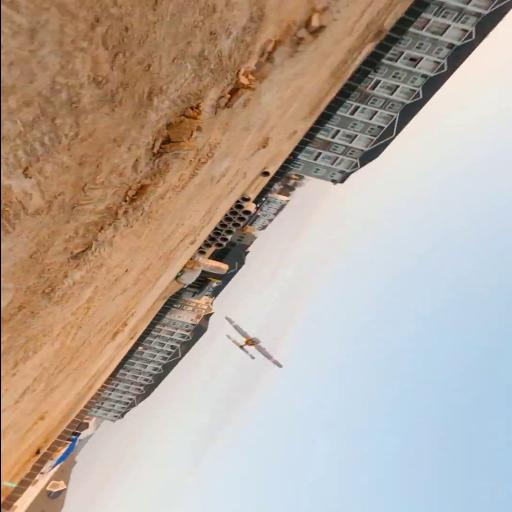uav: (219, 314, 288, 372)
